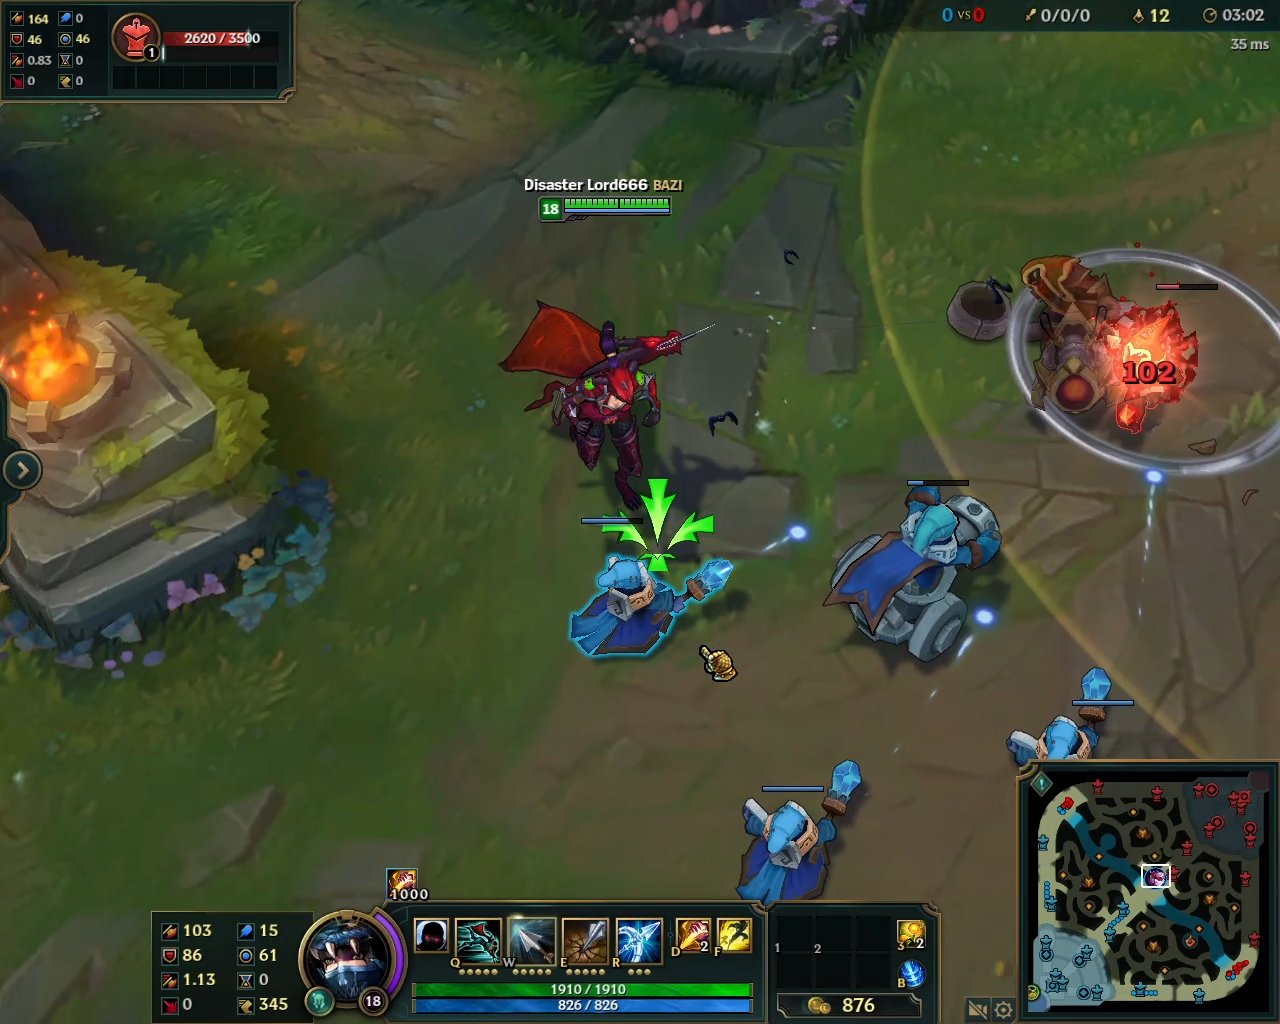Vayne: (502, 294, 718, 515)
